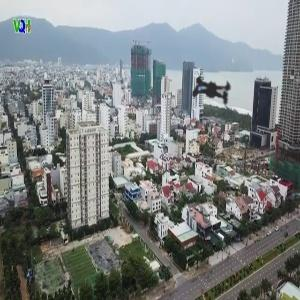drone: (163, 42, 259, 138)
